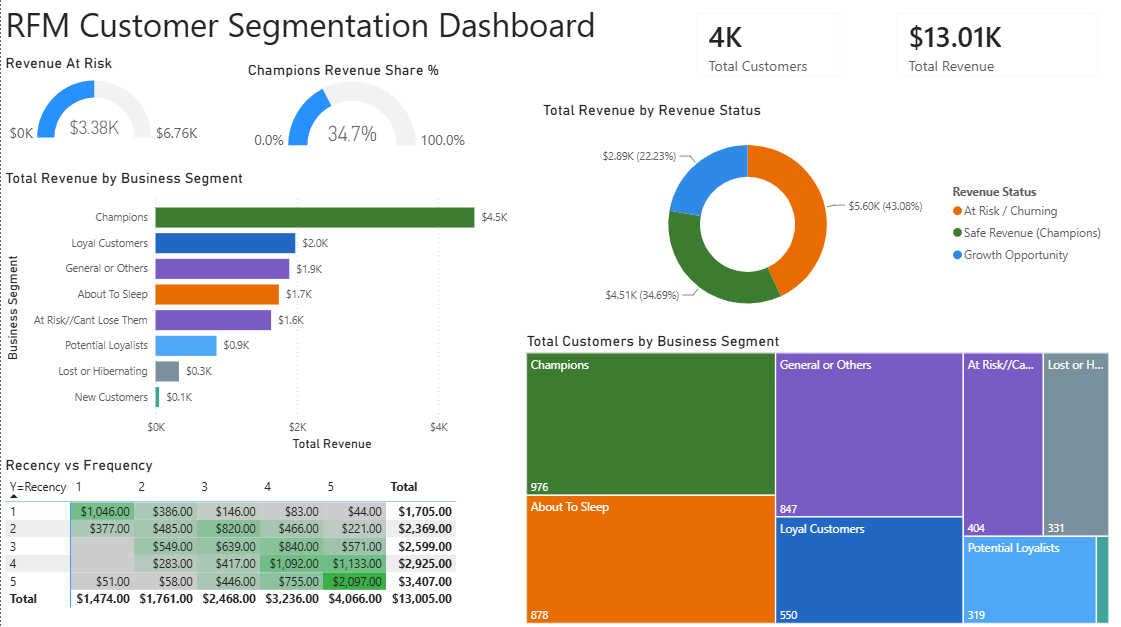

The page's visual inventory and layout, read from the dashboard file:
{"tool":"powerbi","page":{"name":"Page 1","canvas":[1280,720],"ordinal":0},"visuals":[{"type":"cardVisual","fields":{"Data":["customer_final_segmentation.Total Customers"]},"box":[778.6,0,198.6,107.1],"z":0},{"type":"cardVisual","fields":{"Data":["customer_final_segmentation.Total Revenue"]},"box":[1007.1,0,264.3,107.1],"z":1000},{"type":"gauge","fields":{"Y":["customer_final_segmentation.Champions Revenue Share %"]},"box":[277.1,71.4,265.7,107.1],"z":2000},{"type":"treemap","fields":{"Group":["customer_final_segmentation.business_segment"],"Values":["customer_final_segmentation.Total Customers"]},"box":[595.7,381.4,675.7,338.6],"z":3000},{"type":"clusteredBarChart","fields":{"Category":["customer_final_segmentation.business_segment"],"Y":["customer_final_segmentation.Total Revenue"]},"box":[0,195.7,595.7,327.1],"z":4000},{"type":"textbox","box":[0,0,760,71.4],"z":5000},{"type":"pivotTable","title":"Recency vs Frequency ","fields":{"Rows":["customer_final_segmentation.recency_score"],"Columns":["customer_final_segmentation.frequency_score"],"Values":["customer_final_segmentation.Total Revenue"]},"box":[0,522.9,552.9,197.1],"z":6000},{"type":"gauge","fields":{"Y":["customer_final_segmentation.Revenue At Risk"]},"box":[0,64.3,234.3,111.4],"z":7000},{"type":"donutChart","fields":{"Category":["customer_final_segmentation.Revenue Status"],"Y":["customer_final_segmentation.Total Revenue"]},"box":[614.3,117.1,657.1,264.3],"z":8000}]}

Visuals, with their boxes in screenshot pixels (x1, y1, x2, y2), scaled from the page's 1280x720 canvas onto the 1121x627 screenshot:
cardVisual - customer_final_segmentation.Total Customers: [682,0,856,93]
cardVisual - customer_final_segmentation.Total Revenue: [882,0,1113,93]
gauge - customer_final_segmentation.Champions Revenue Share %: [243,62,475,155]
treemap - customer_final_segmentation.business_segment x customer_final_segmentation.Total Customers: [522,332,1113,626]
clusteredBarChart - customer_final_segmentation.business_segment x customer_final_segmentation.Total Revenue: [0,170,522,455]
textbox: [0,0,666,62]
"Recency vs Frequency " pivotTable: [0,455,484,626]
gauge - customer_final_segmentation.Revenue At Risk: [0,56,205,153]
donutChart - customer_final_segmentation.Revenue Status x customer_final_segmentation.Total Revenue: [538,102,1113,332]
